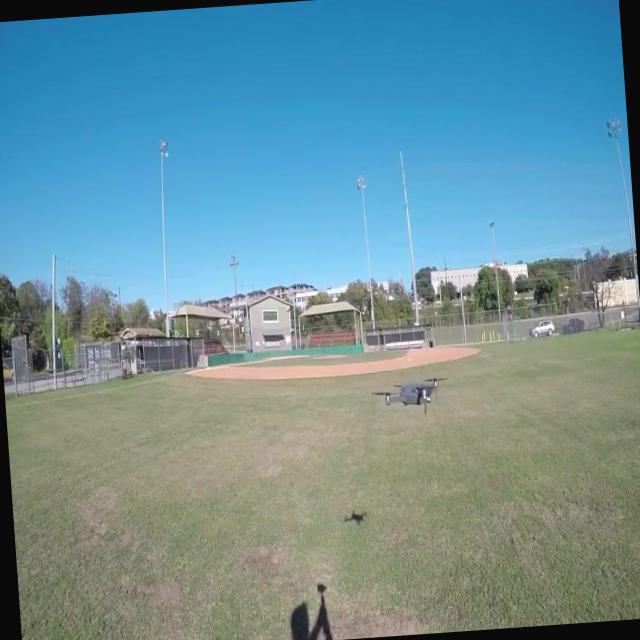drone: (369, 374, 448, 422)
